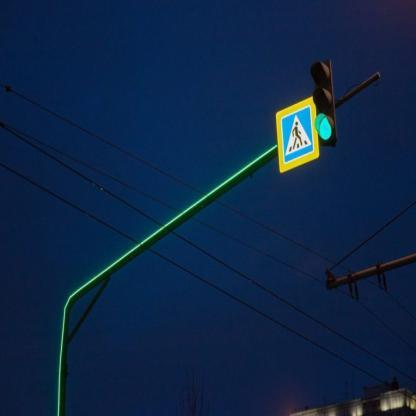road_sign: (276, 96, 319, 172)
traffic light: (310, 59, 337, 147)
